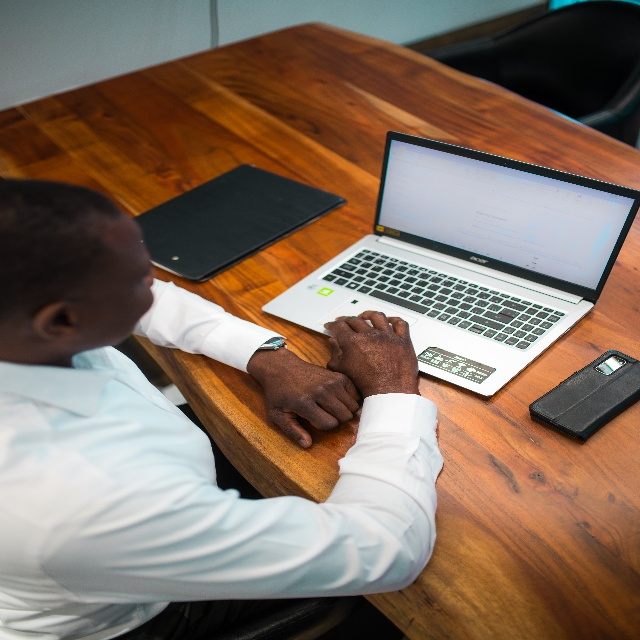Sin_guantes: (262, 348, 361, 449), (323, 310, 419, 397)
